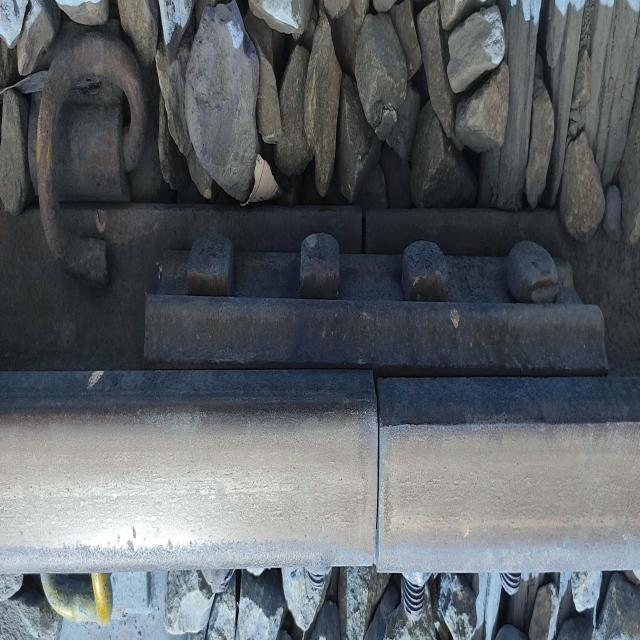Good Fasteners: (29, 32, 148, 286), (40, 572, 148, 626)
Good Joint: (139, 236, 612, 368)
